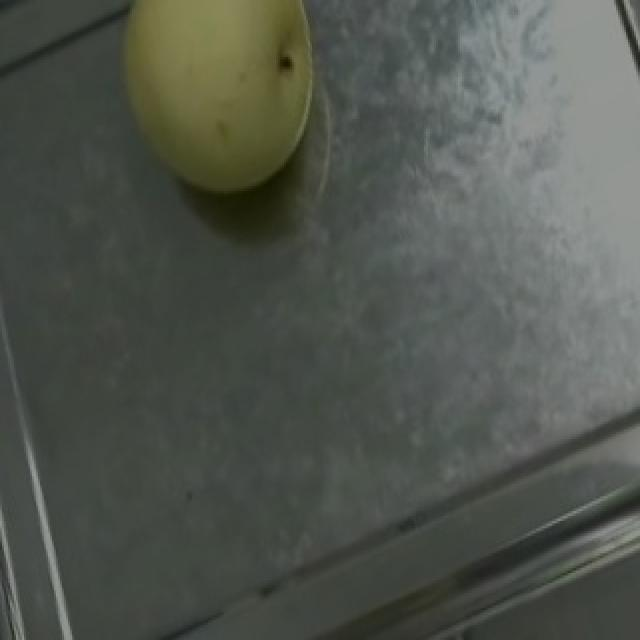Fruit: (78, 0, 364, 233)
